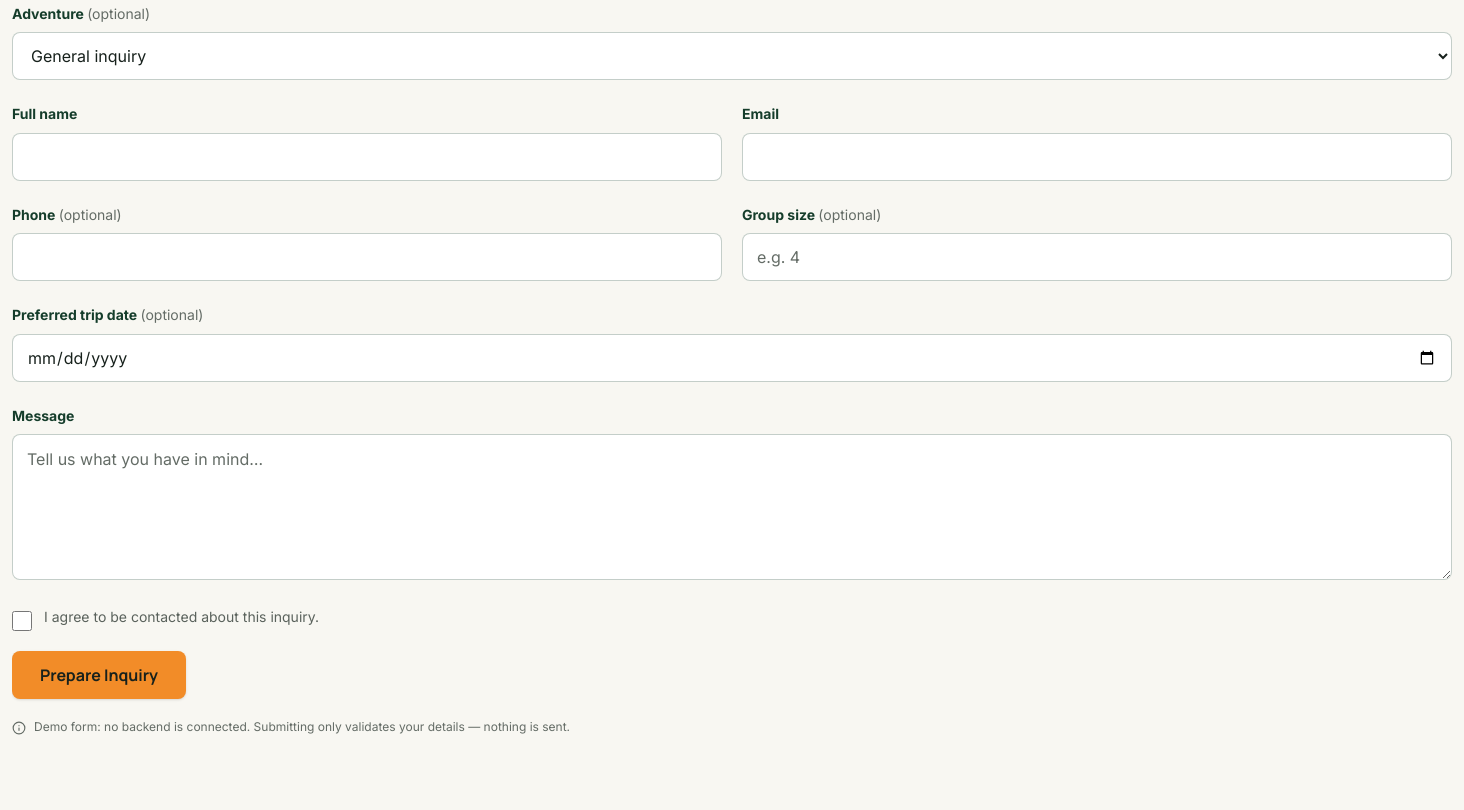
Test: ContactForm › validates email, optional phone and group size
Type "Ana" into the field labelled "Full name".
click(367, 157); type("Ana")  # box [12,133,722,181]
Type "not-an-email" into the field labelled "Email".
click(1097, 157); type("not-an-email")  # box [742,133,1452,181]
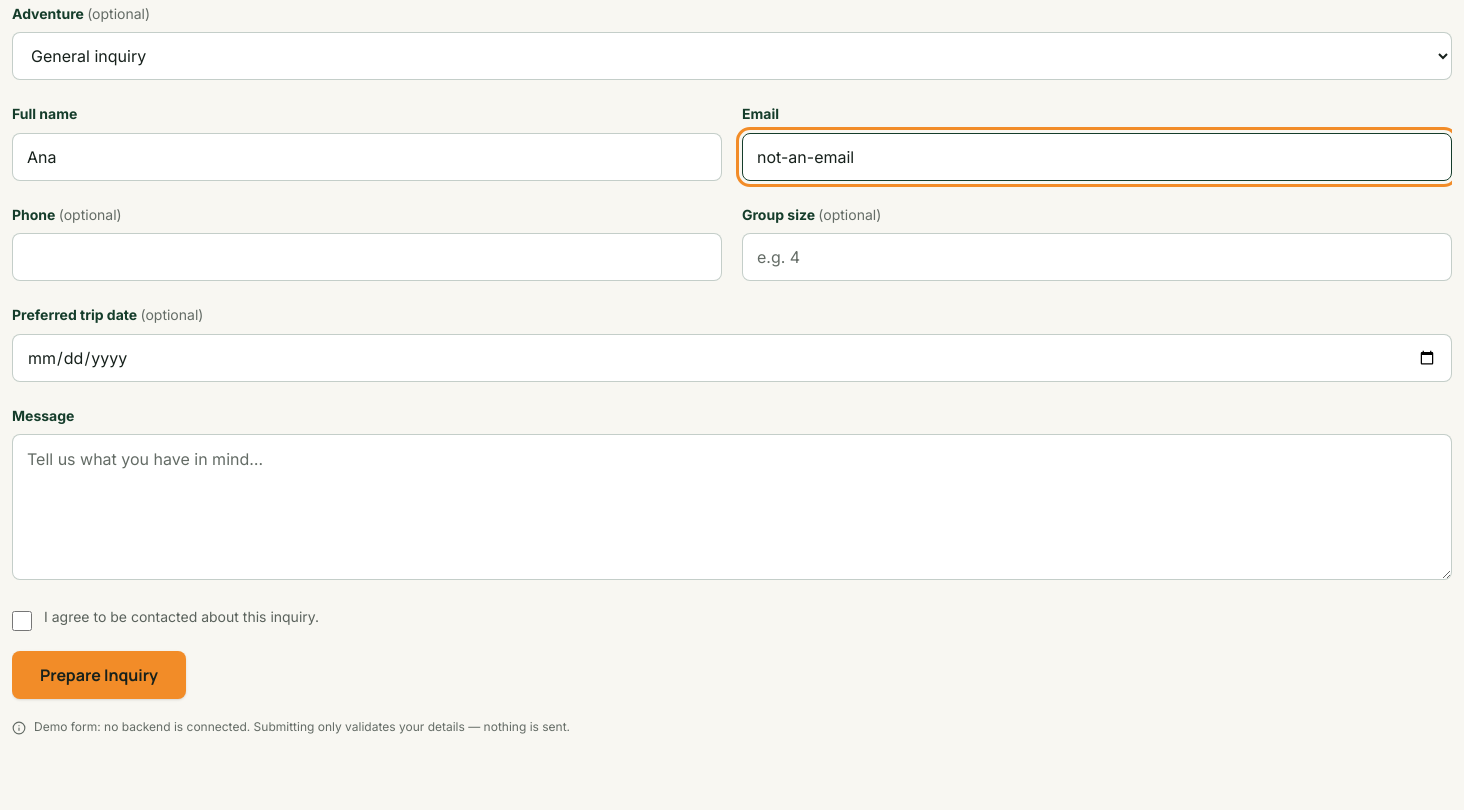
Type "abc" into the field labelled "Phone (optional)".
click(367, 257); type("abc")  # box [12,233,722,281]
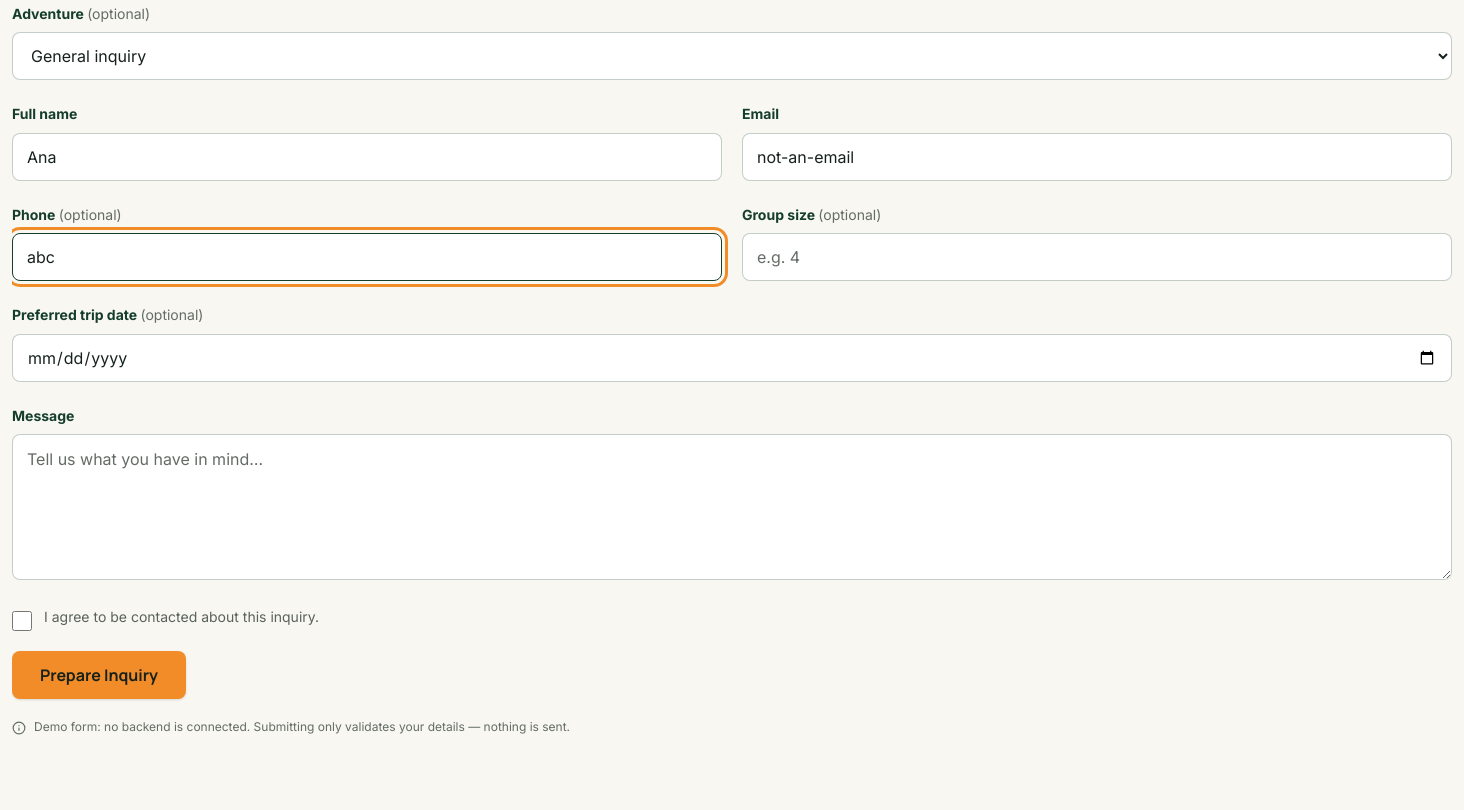
Type "0" into the field labelled "Group size (optional)".
click(1097, 257); type("0")  # box [742,233,1452,281]
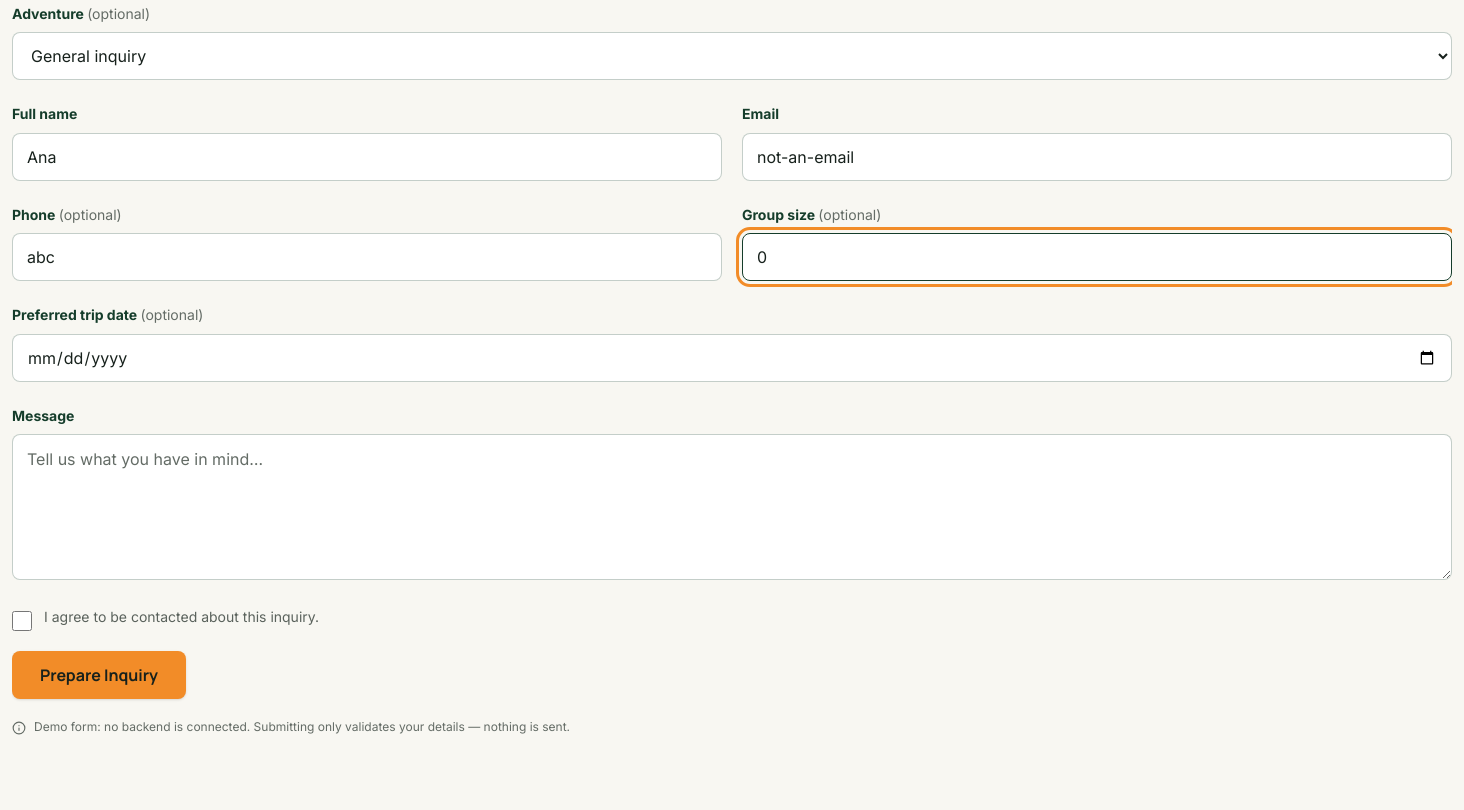
Type "Hello there, interested!" into the text box labelled "Message".
click(732, 507); type("Hello there, interested!")  # box [12,434,1452,580]
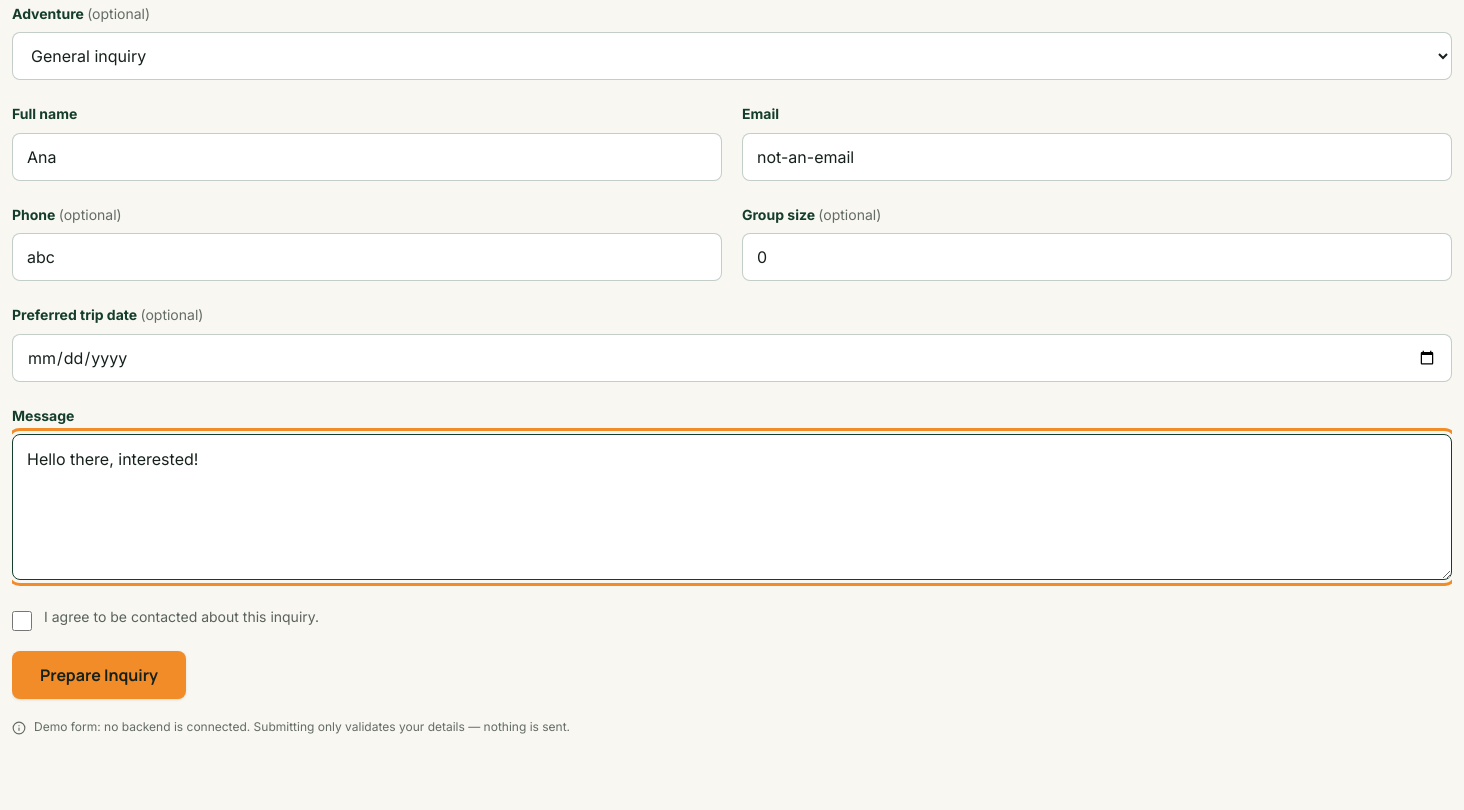
Click the checkbox labelled "I agree to be contacted about this inquiry.".
click(22, 621)  # box [12,611,32,631]
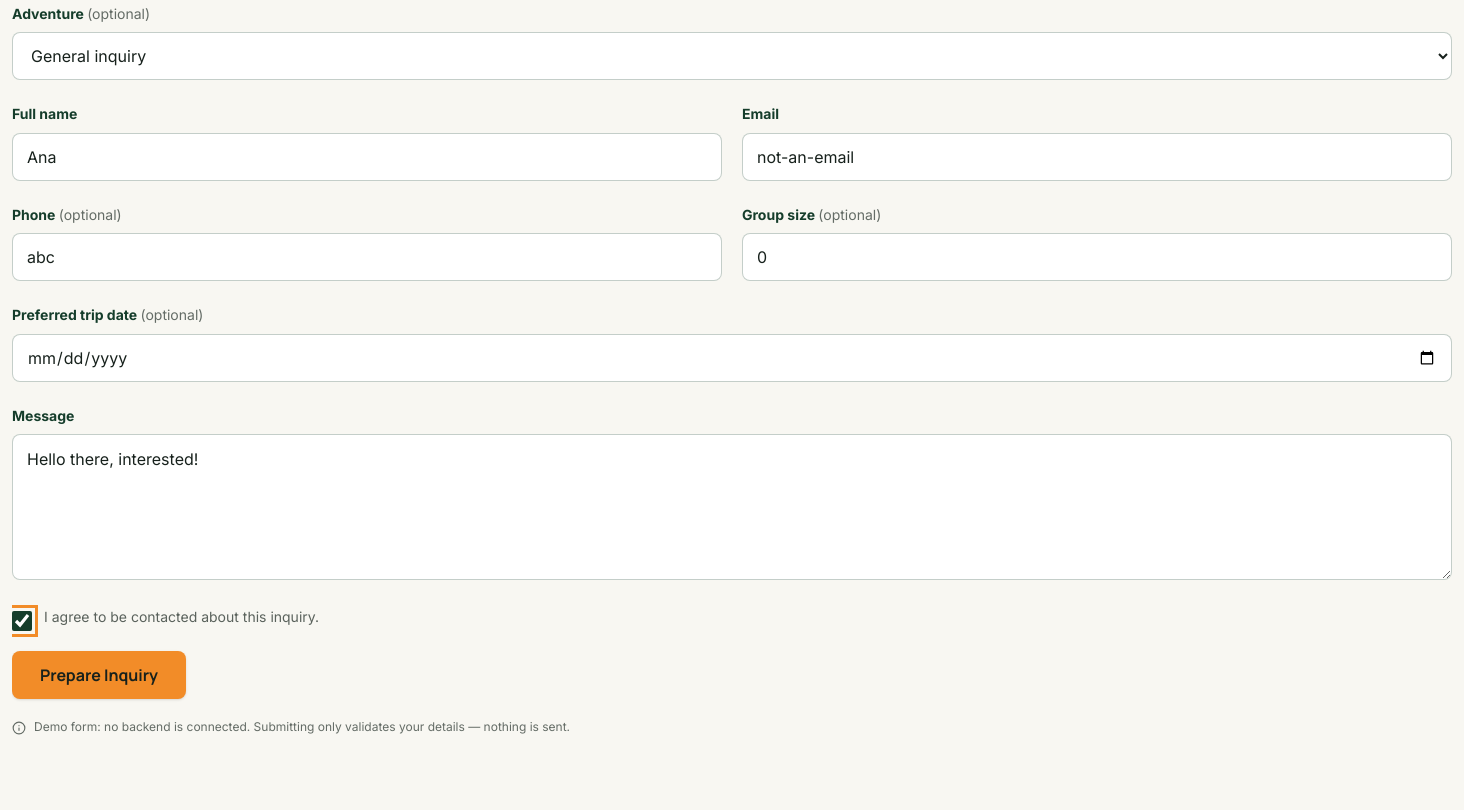
Click the button "Prepare Inquiry".
click(99, 675)  # box [12,651,186,699]
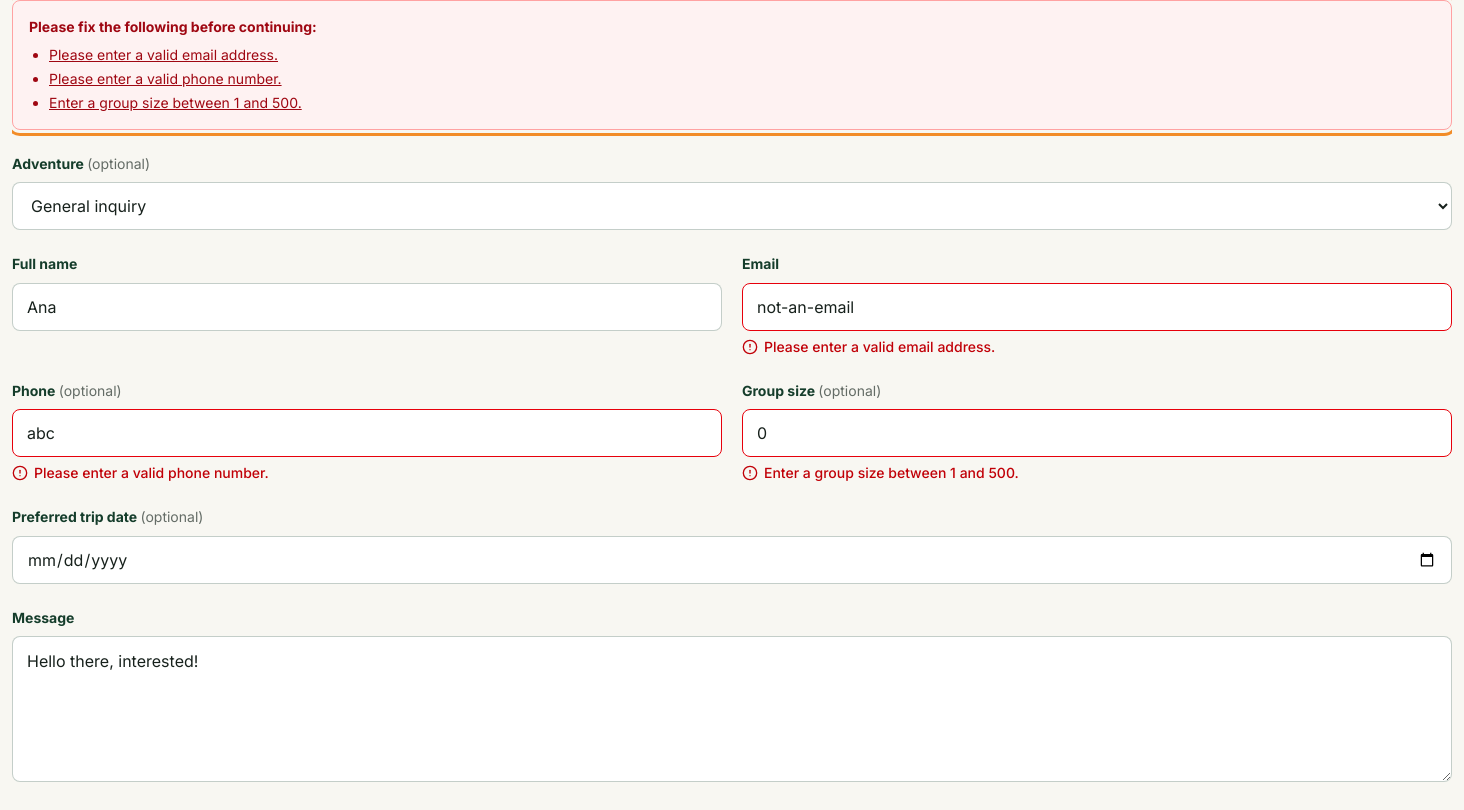
Now the element with id "email-error" shows "valid email", box [764,338,995,355]
Now the element showing "Please enter a valid phone number." is shown, box [12,464,269,481]
Now the element with id "groupSize-error" is shown, box [742,464,1019,481]
